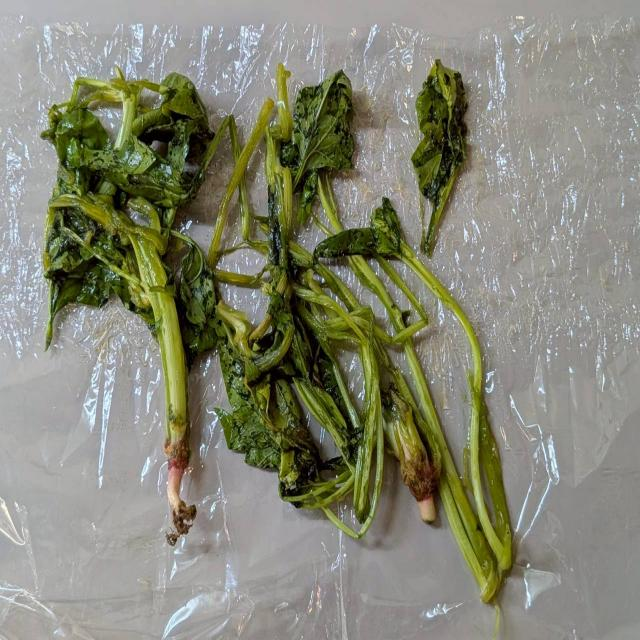rotten spinach: (33, 44, 524, 603), (254, 211, 514, 590), (45, 60, 225, 552), (226, 76, 394, 552), (422, 63, 484, 257)
